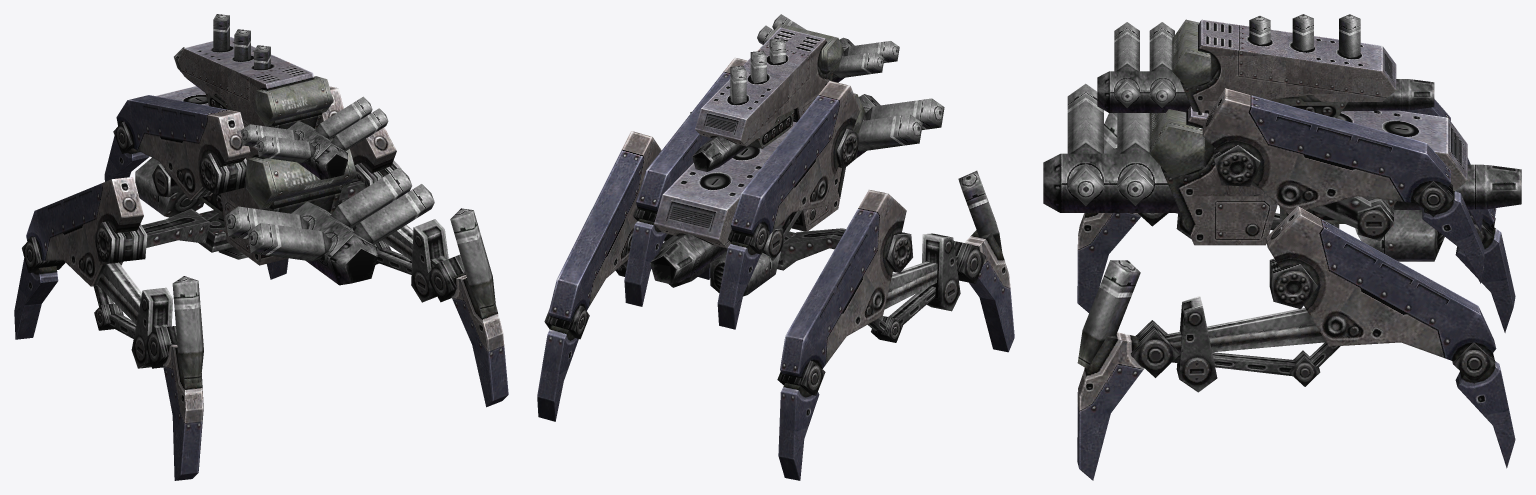
The model's file is Duskmas.FBX.
The picture shows the model from 3 angles, left to right: view 1: azimuth 30°, elevation 25°; view 2: azimuth 150°, elevation 25°; view 3: azimuth 270°, elevation 25°; orthographic projection. The views are drawn at different scales.
Parts seen in each view (by area): view 1: Spine, L foot, R foot, forearm, L leg, hand, NPC4_02, upperarm; view 2: Spine, L foot, forearm, R foot, hand, L leg, upperarm; view 3: Spine, R foot, forearm, L foot, hand, upperarm.
Part boxes in pixels (x1,y1,x2,y2): Spine: [135, 14, 434, 285]; L foot: [14, 177, 203, 480]; R foot: [267, 127, 508, 407]; forearm: [116, 86, 343, 200]; L leg: [142, 208, 210, 247]; hand: [104, 121, 149, 181]; NPC4_02: [198, 210, 247, 259]; upperarm: [152, 164, 182, 197]; Spine: [650, 14, 944, 296]; L foot: [777, 170, 1014, 480]; forearm: [636, 57, 860, 237]; R foot: [537, 112, 710, 421]; hand: [624, 206, 769, 329]; L leg: [780, 228, 845, 265]; upperarm: [762, 210, 801, 260]; Spine: [1043, 14, 1521, 261]; R foot: [1077, 206, 1515, 480]; forearm: [1202, 88, 1450, 214]; L foot: [1077, 113, 1515, 332]; hand: [1414, 158, 1484, 283]; upperarm: [1251, 182, 1393, 240].
Bounding box in the file's own units: 3.68 × 3.71 × 4.21.
1 material, 1 textured.
